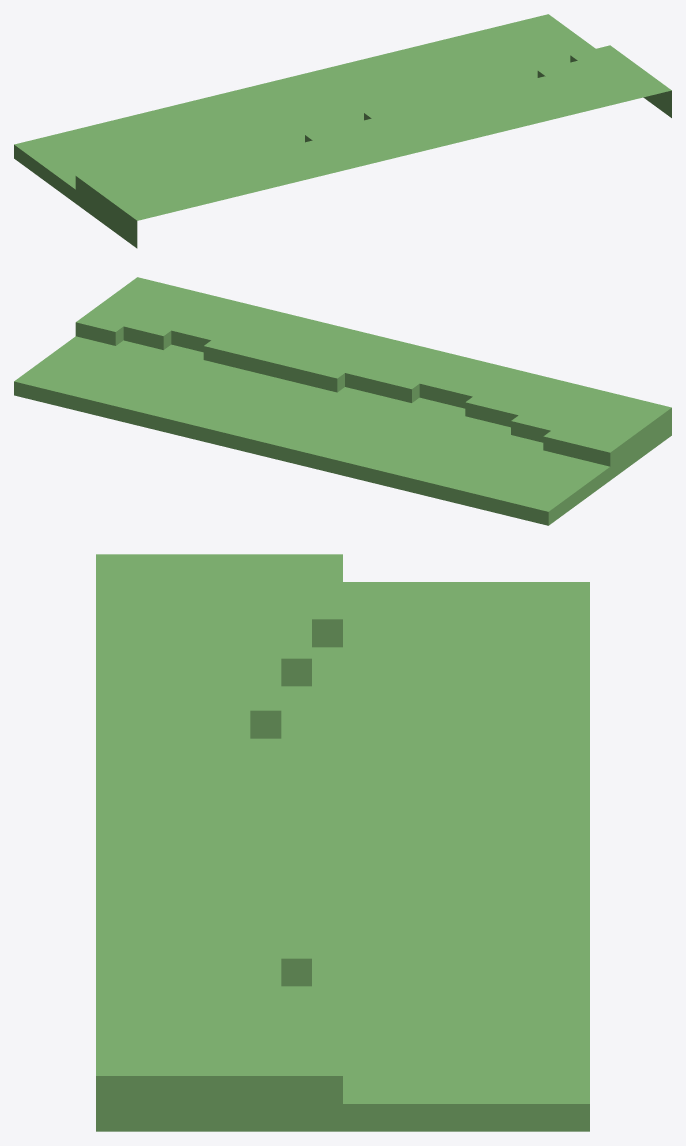
File: Straight5-1step-2.fbx
3 views of the same model, one above another, from view 1: azimuth 30°, elevation 25°; view 2: azimuth 150°, elevation 25°; view 3: azimuth 270°, elevation 25° (orthographic). The views are drawn at different scales.
Parts seen in each view (by area): view 1: Straight5-1step-2; view 2: Straight5-1step-2; view 3: Straight5-1step-2.
Boxes of the visible parts, x1=… form: Straight5-1step-2: x1=14, y1=14, x2=671, y2=248; Straight5-1step-2: x1=14, y1=277, x2=671, y2=525; Straight5-1step-2: x1=96, y1=554, x2=589, y2=1131.
Size of the model in its own units: 40 by 2 by 16.
Materials: 1 (1 with a texture image).
